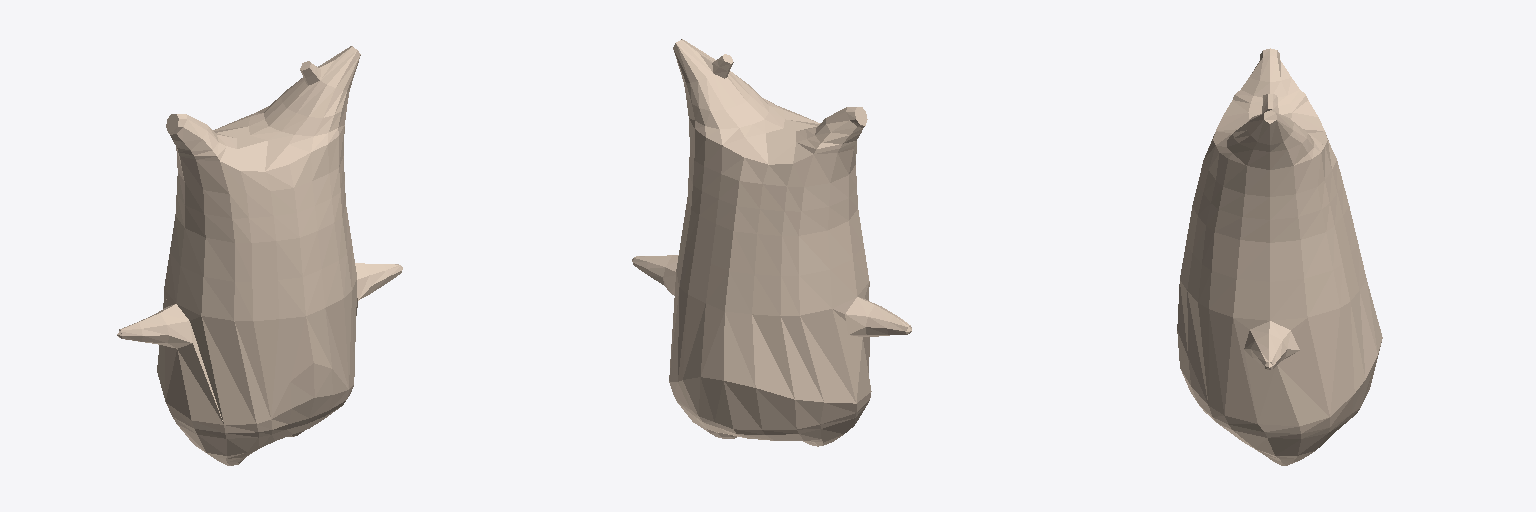
File: frame_0006.obj
3 views of the same model, side by side, from view 1: azimuth 30°, elevation 25°; view 2: azimuth 150°, elevation 25°; view 3: azimuth 270°, elevation 25° (orthographic).
Visible parts, largest first — view 1: korok; view 2: korok; view 3: korok.
Boxes of the visible parts, x1=… form: korok: x1=117, y1=46, x2=402, y2=465; korok: x1=632, y1=39, x2=911, y2=446; korok: x1=1177, y1=48, x2=1382, y2=465.
Bounding box in the file's own units: 1.68 × 2.16 × 1.05.